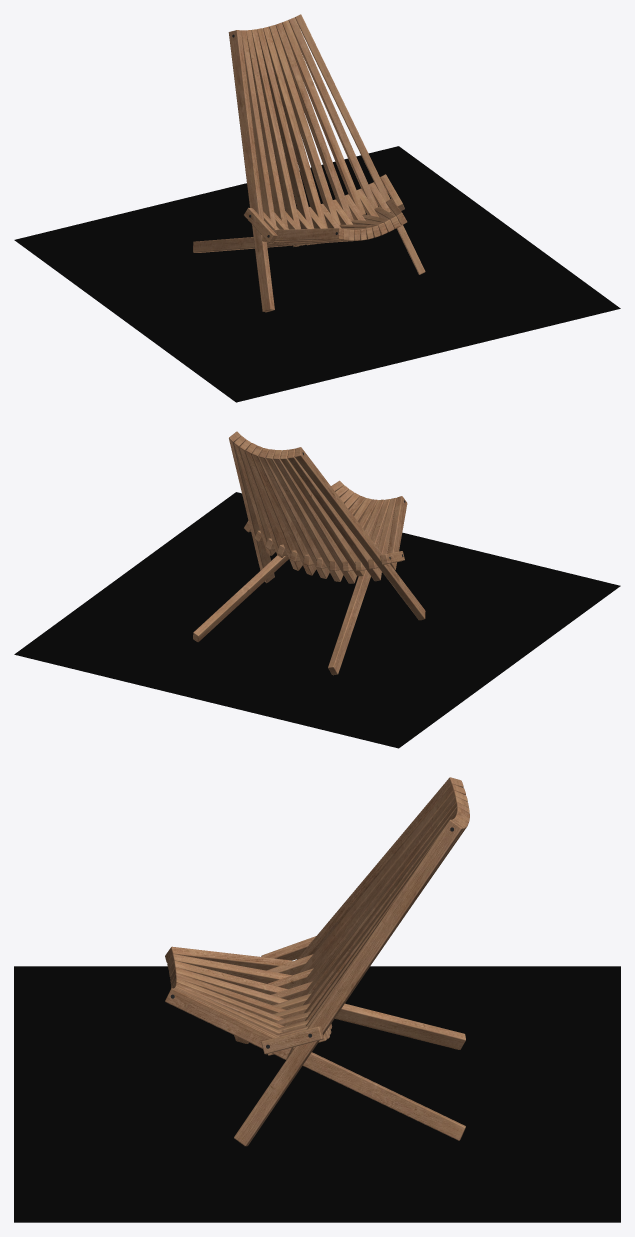
Rendered from tamarack_chair_w_shadow.glb.
3 renders of one model, top to bottom at view 1: azimuth 30°, elevation 25°; view 2: azimuth 150°, elevation 25°; view 3: azimuth 270°, elevation 25°, orthographic. The views are drawn at different scales.
Parts seen in each view (by area): view 1: Plane, Tamarack_chair_mesh; view 2: Plane, Tamarack_chair_mesh; view 3: Plane, Tamarack_chair_mesh.
Part boxes in pixels (x1,y1,x2,y2): Plane: (14,146,620,402); Tamarack_chair_mesh: (193,14,425,312); Plane: (14,492,620,748); Tamarack_chair_mesh: (193,431,425,675); Plane: (14,966,620,1222); Tamarack_chair_mesh: (165,777,469,1146).
Bounding box in the file's own units: 1.58 × 0.8501 × 1.58.
2 materials, 2 textured.
